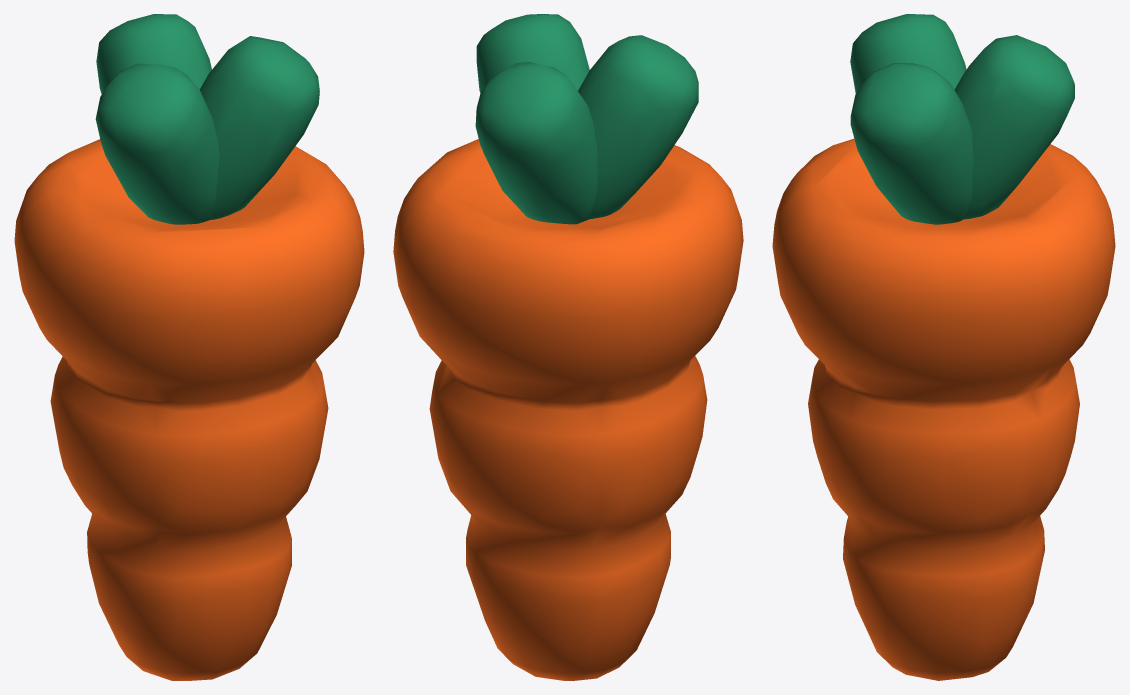
File: carrot1.glb
3 renders of one model, left to right at view 1: azimuth 30°, elevation 25°; view 2: azimuth 150°, elevation 25°; view 3: azimuth 270°, elevation 25°, orthographic.
Parts seen in each view (by area): view 1: Cube.001, Cube.002; view 2: Cube.001, Cube.002; view 3: Cube.001, Cube.002.
Part boxes in pixels (box(x1,y1,x2,y2)): Cube.001: box(14, 139, 364, 680); Cube.002: box(95, 14, 319, 224); Cube.001: box(393, 139, 743, 680); Cube.002: box(475, 14, 698, 224); Cube.001: box(772, 138, 1115, 680); Cube.002: box(850, 14, 1074, 224).
Bounding box in the file's own units: 1.71 × 3.44 × 1.71.
Materials: 2 (2 with a texture image).
